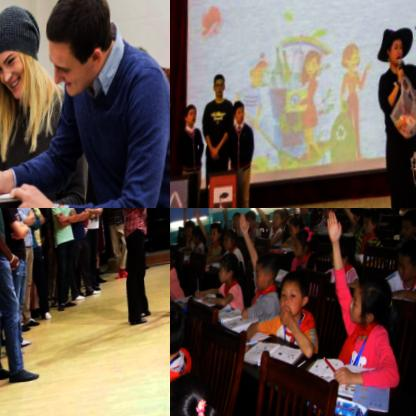head: (43, 0, 122, 111), (0, 0, 51, 113), (348, 277, 400, 344), (170, 372, 220, 416), (276, 276, 312, 326), (170, 303, 193, 364), (251, 256, 283, 299), (217, 258, 242, 293), (398, 246, 416, 294), (291, 235, 316, 267), (398, 219, 416, 250), (387, 37, 404, 67), (221, 233, 239, 258), (363, 218, 380, 244), (270, 213, 287, 238), (231, 99, 247, 125), (183, 104, 199, 127), (287, 222, 303, 244), (183, 221, 197, 244), (209, 224, 221, 249), (348, 211, 362, 232), (214, 73, 225, 98), (192, 229, 204, 250), (245, 214, 257, 235), (170, 249, 179, 276), (320, 208, 331, 225), (231, 216, 242, 233), (298, 208, 309, 222), (280, 212, 289, 227)
